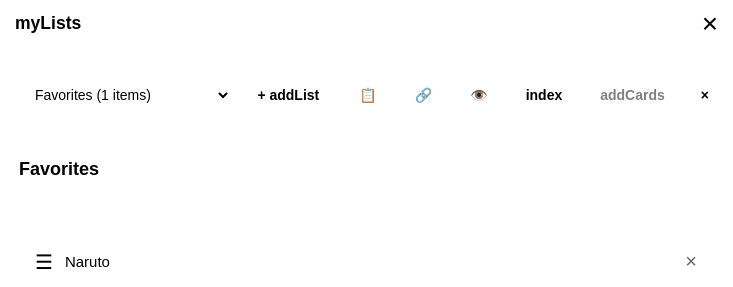
Test: ListManager › toggles between plain names and numbered indexes
This screenshot has width=733, height=287.
Expected: the text "Naruto" is shown, [65,254,110,270]
Expected: the text "1. Naruto" is not shown
Click the button titled "showCalculatedIndexes".
click(544, 95)  # box [512,79,576,111]
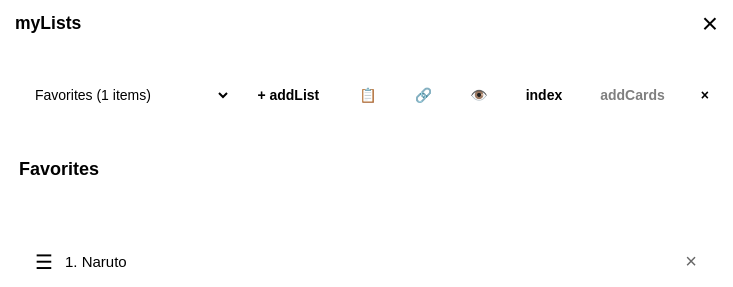
Result: the text "1. Naruto" is shown at [65,254,127,270]
